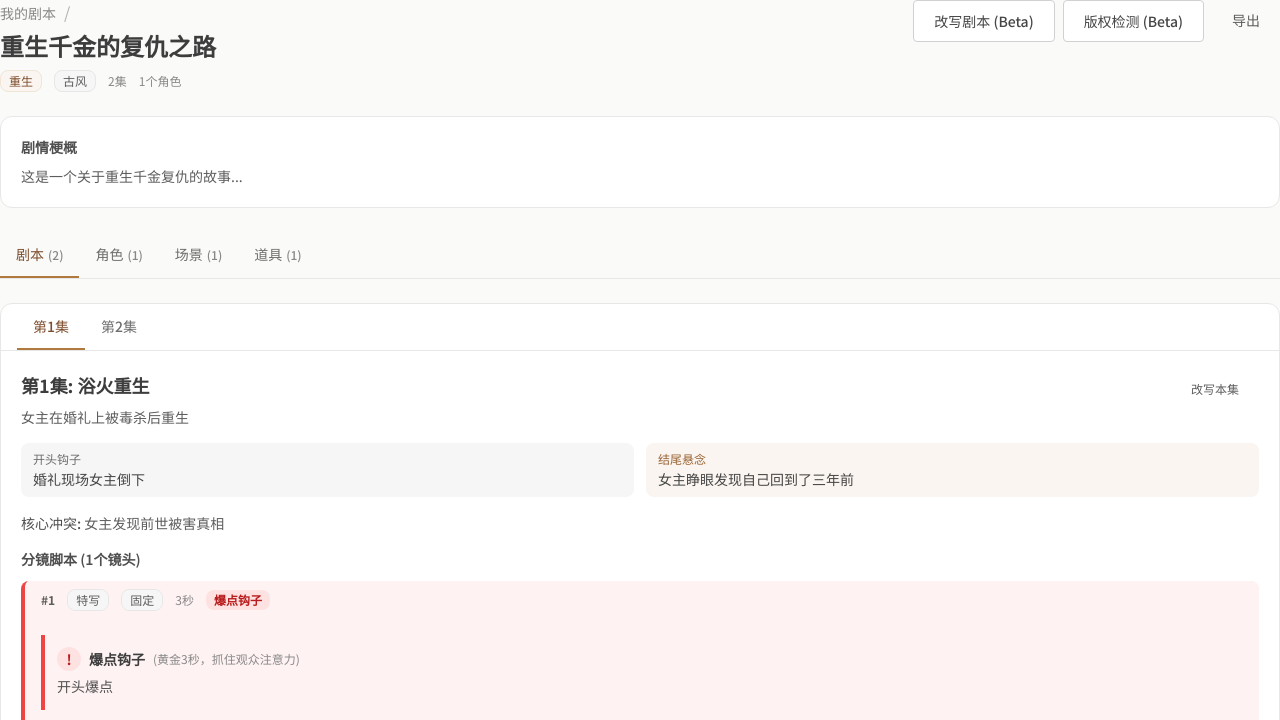
Scenario: ScriptViewerPage › switches to scenes tab
Expected: the heading "重生千金的复仇之路" is shown, [0,30,216,62]
What coordinates should you click on to do the following:
click the button "场景(1)"
I would click on:
 (198, 255)
Its box is [159,232,238,278].
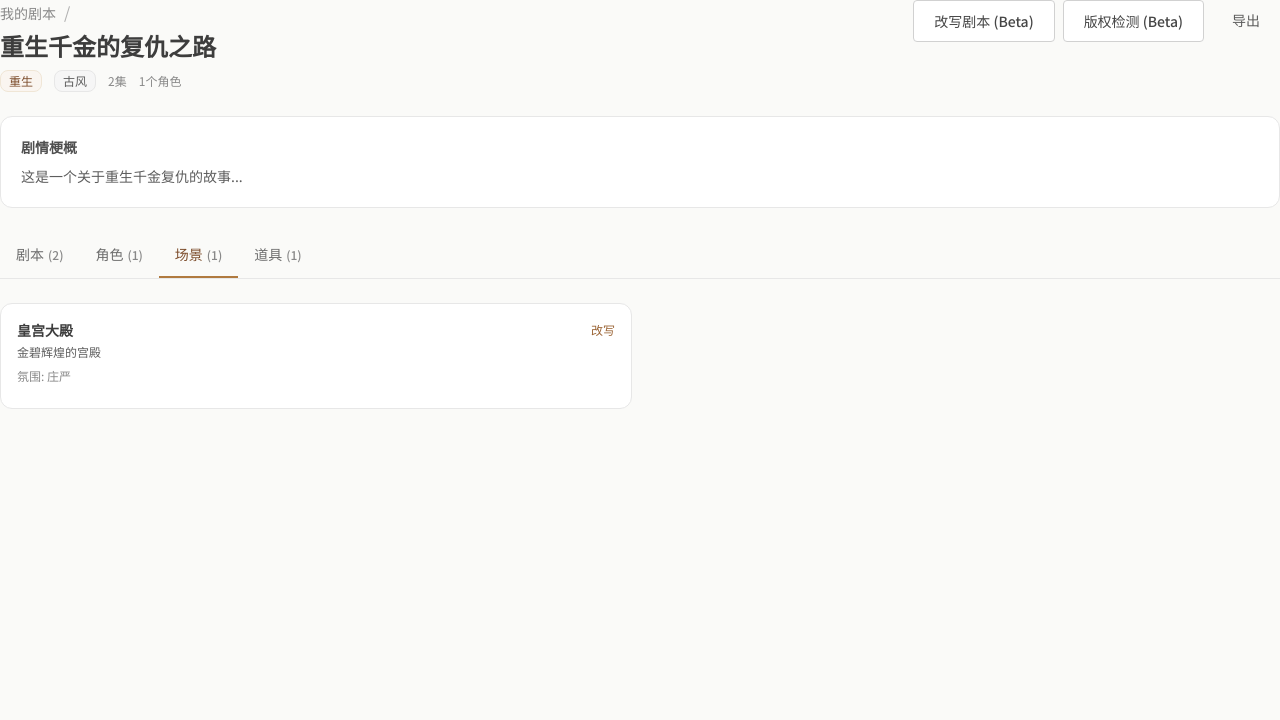
Expected: the heading "皇宫大殿" is shown, [17,320,73,340]
